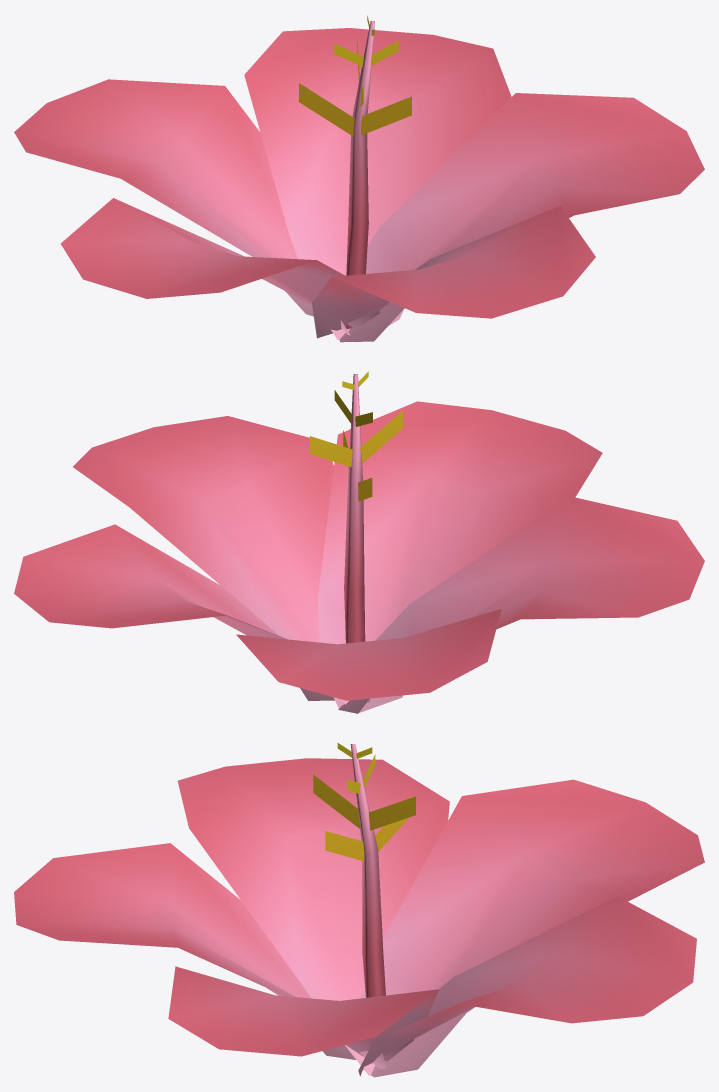
Rendered from Hibiscus_Pink.fbx.
3 renders of one model, top to bottom at view 1: azimuth 30°, elevation 25°; view 2: azimuth 150°, elevation 25°; view 3: azimuth 270°, elevation 25°, orthographic. The views are drawn at different scales.
Parts seen in each view (by area): view 1: Hibiscus_Pink; view 2: Hibiscus_Pink; view 3: Hibiscus_Pink.
Part boxes in pixels (box(x1,y1,x2,y2)): Hibiscus_Pink: box(14, 15, 704, 342); Hibiscus_Pink: box(14, 371, 704, 713); Hibiscus_Pink: box(14, 743, 704, 1077).
Size of the model in its own units: 40.86 by 20.85 by 39.5.
